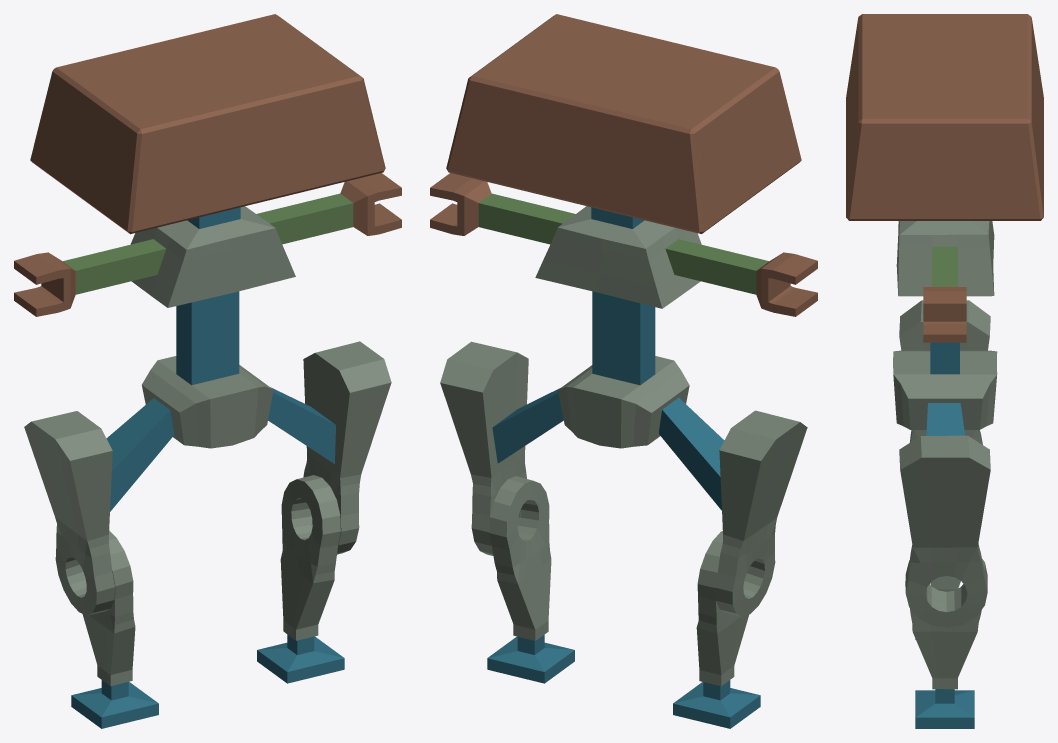
Rendered from robot.fbx.
3 views of the same model, side by side, from view 1: azimuth 30°, elevation 25°; view 2: azimuth 150°, elevation 25°; view 3: azimuth 270°, elevation 25° (orthographic). The views are drawn at different scales.
Parts seen in each view (by area): view 1: Head, Cube, Top_leg, Top_leg.001, Leg_atachement, Foot; view 2: Head, Cube, Top_leg, Top_leg.001, Leg_atachement, Foot; view 3: Head, Cube, Top_leg, Top_leg.001, Foot, Leg_atachement.
Part boxes in pixels (left/top/right/bottom): Head: left=30, top=14, right=385, bottom=234; Cube: left=14, top=173, right=401, bottom=448; Top_leg: left=24, top=341, right=391, bottom=615; Top_leg.001: left=82, top=475, right=340, bottom=686; Leg_atachement: left=106, top=387, right=335, bottom=511; Foot: left=71, top=634, right=344, bottom=728; Head: left=446, top=14, right=801, bottom=233; Cube: left=430, top=173, right=817, bottom=448; Top_leg: left=440, top=341, right=807, bottom=616; Top_leg.001: left=489, top=476, right=748, bottom=686; Leg_atachement: left=492, top=388, right=724, bottom=510; Foot: left=487, top=635, right=760, bottom=728; Head: left=846, top=14, right=1043, bottom=220; Cube: left=893, top=221, right=997, bottom=429; Top_leg: left=899, top=300, right=990, bottom=627; Top_leg.001: left=905, top=559, right=987, bottom=689; Foot: left=915, top=639, right=974, bottom=728; Leg_atachement: left=926, top=403, right=964, bottom=435.
Size of the model in its own units: 103 by 166 by 49.17.
